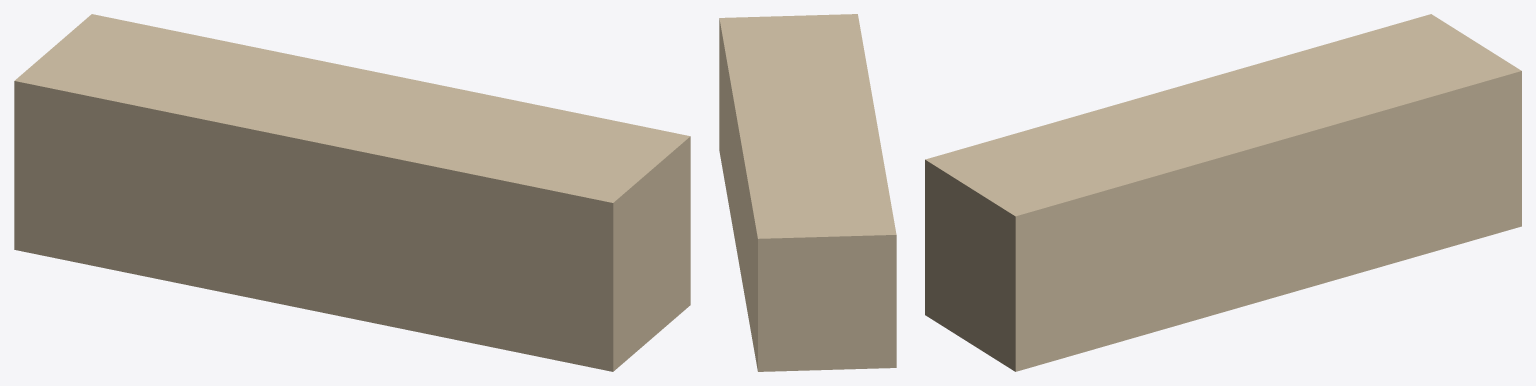
File: 17_5-estimated-coarse.glb
The picture shows the model from 3 angles, left to right: view 1: azimuth 30°, elevation 25°; view 2: azimuth 150°, elevation 25°; view 3: azimuth 270°, elevation 25°; orthographic projection. The views are drawn at different scales.
Size of the model in its own units: 33.49 by 12 by 41.73.
